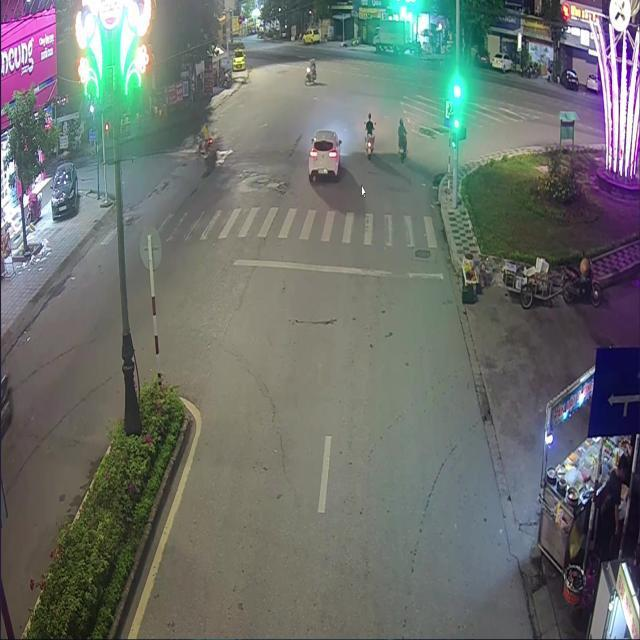car: (307, 129, 340, 180)
green_light: (452, 99, 459, 128)
motobike: (365, 134, 372, 158), (399, 147, 405, 162)
stop_line: (231, 258, 442, 280)
